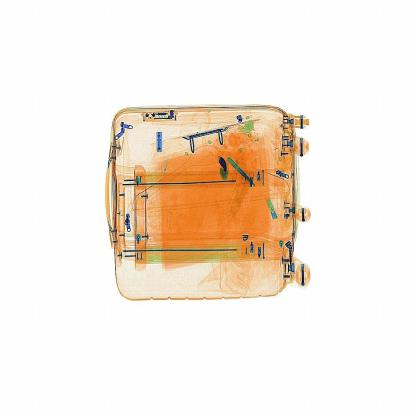wrench: (209, 149, 233, 186)
